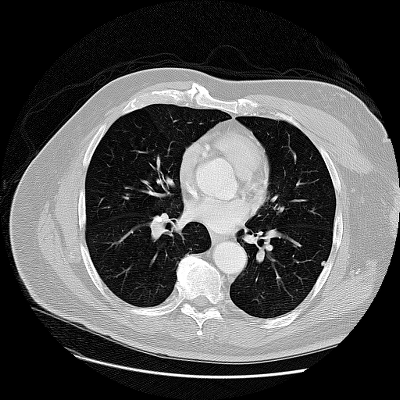nodule: (321, 261, 325, 265)
